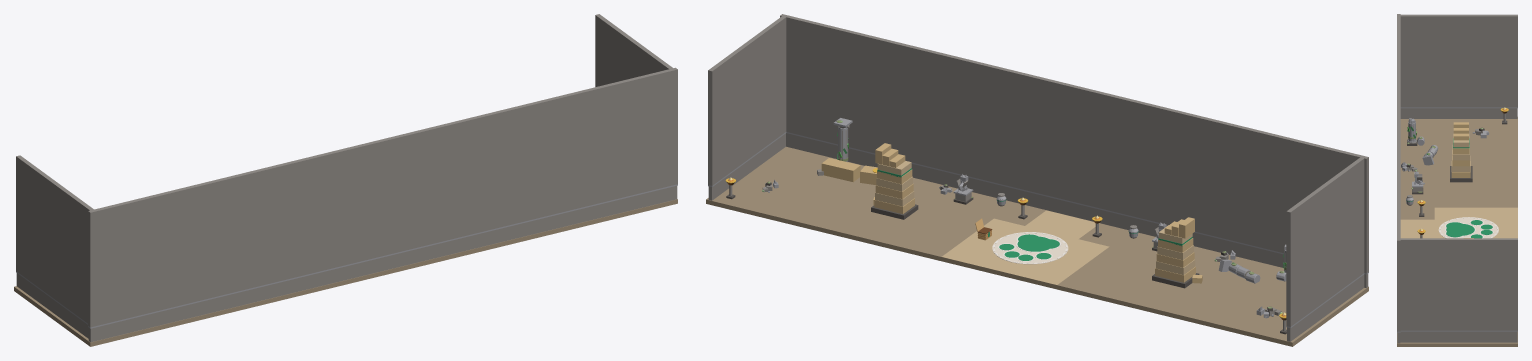
Rendered from CatCafe_Camp_Ruins.glb.
The picture shows the model from 3 angles, left to right: view 1: azimuth 30°, elevation 25°; view 2: azimuth 150°, elevation 25°; view 3: azimuth 270°, elevation 25°; orthographic projection. The views are drawn at different scales.
Visible parts, largest first — view 1: CatCafe_Camp_Ruins_Barrier, CatCafe_Camp_Ruins; view 2: CatCafe_Camp_Ruins_Barrier, CatCafe_Camp_Ruins, CatCafe_Camp_Ruins_006_GatePylon, CatCafe_Camp_Ruins_001_GatePylon, CatCafe_Camp_Ruins_011_FallenLintel; view 3: CatCafe_Camp_Ruins_Barrier, CatCafe_Camp_Ruins, CatCafe_Camp_Ruins_001_GatePylon, CatCafe_Camp_Ruins_004_ColumnBroken, CatCafe_Camp_Ruins_014_Gargoyle, CatCafe_Camp_Ruins_012_Drums, CatCafe_Camp_Ruins_016_Rubble, CatCafe_Camp_Ruins_018_Rubble.
Boxes of the visible parts, x1,y1,x2,y2 form: CatCafe_Camp_Ruins_Barrier: [16, 14, 677, 327]; CatCafe_Camp_Ruins: [14, 184, 677, 346]; CatCafe_Camp_Ruins_Barrier: [708, 14, 1368, 326]; CatCafe_Camp_Ruins: [706, 132, 1368, 346]; CatCafe_Camp_Ruins_006_GatePylon: [871, 143, 918, 219]; CatCafe_Camp_Ruins_001_GatePylon: [1152, 217, 1202, 288]; CatCafe_Camp_Ruins_011_FallenLintel: [817, 158, 877, 184]; CatCafe_Camp_Ruins_Barrier: [1397, 14, 1517, 331]; CatCafe_Camp_Ruins: [1397, 107, 1517, 346]; CatCafe_Camp_Ruins_001_GatePylon: [1450, 122, 1472, 182]; CatCafe_Camp_Ruins_004_ColumnBroken: [1407, 118, 1424, 145]; CatCafe_Camp_Ruins_014_Gargoyle: [1412, 171, 1424, 194]; CatCafe_Camp_Ruins_012_Drums: [1422, 145, 1438, 165]; CatCafe_Camp_Ruins_016_Rubble: [1472, 127, 1489, 138]; CatCafe_Camp_Ruins_018_Rubble: [1401, 162, 1417, 171].
Size of the model in its own units: 142 by 31 by 32.
1 material, 1 textured.
